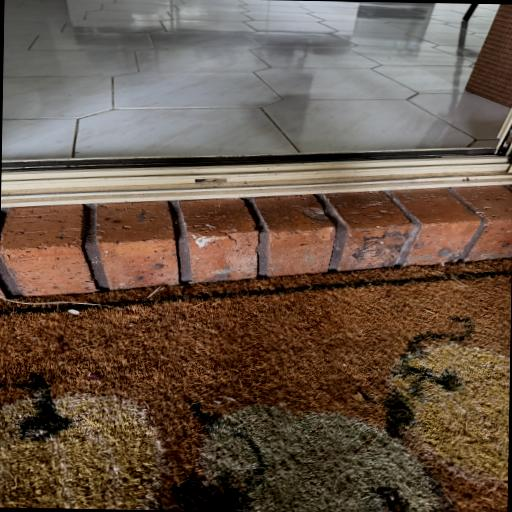step: (0, 156, 512, 297)
